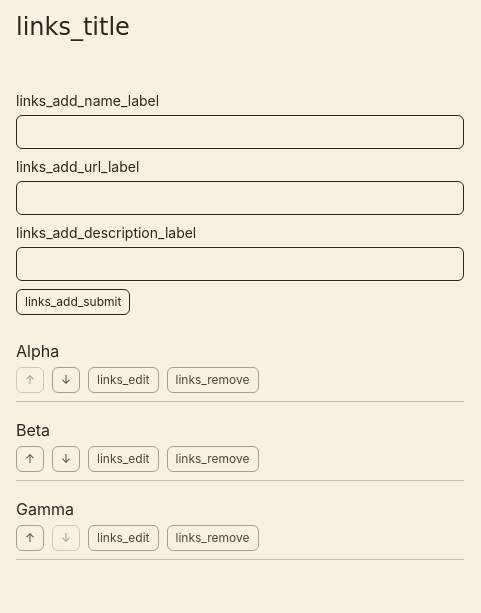
Scenario: #323 integration — a MID-LOOP renumber failure on the REAL wire surfaces and re-reads › move-down on Alpha: l-b renumbers OK, l-a 500s → role=alert links_reorder_failed, the loop stops before l-c, a FRESH list read follows the failing POST, and the
Click the button with test id "links-move-down" below "Alpha" at (66, 380), box [52,367,80,393]
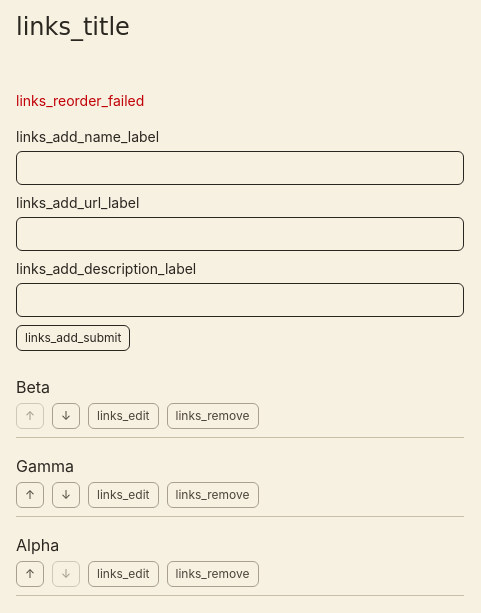
Result: the message "links_reorder_failed" is shown at [16,92,144,109]
Result: the button with test id "links-move-down" below "Gamma" is enabled at [52,482,80,508]
